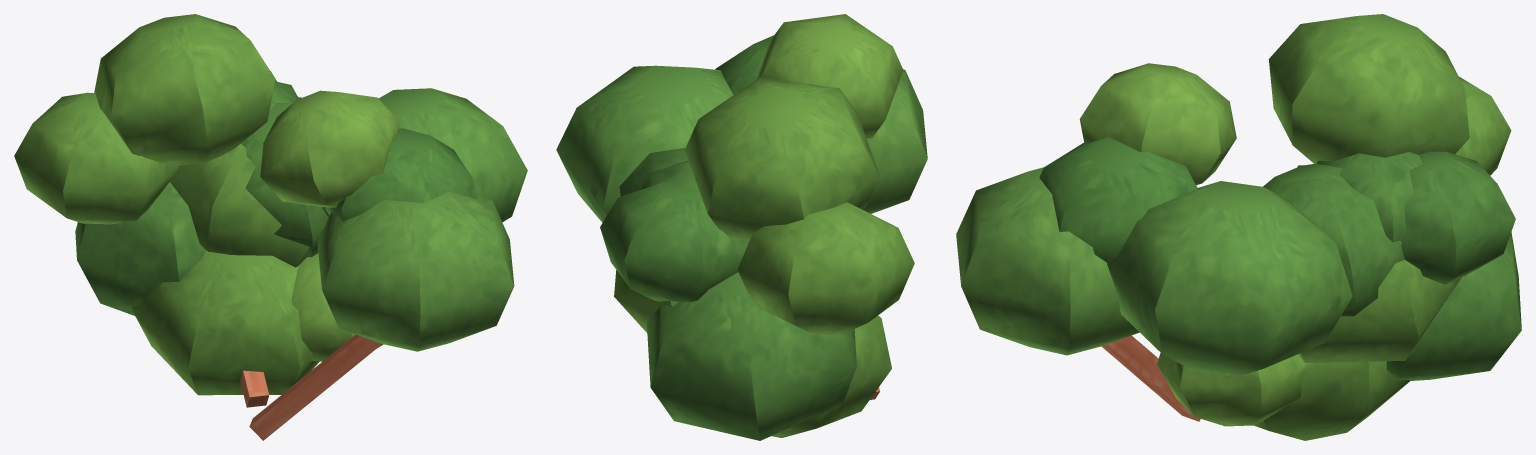
The model's file is tree_s00.fbx.
3 renders of one model, left to right at view 1: azimuth 30°, elevation 25°; view 2: azimuth 150°, elevation 25°; view 3: azimuth 270°, elevation 25°, orthographic. The views are drawn at different scales.
Parts seen in each view (by area): view 1: tree_s00; view 2: tree_s00; view 3: tree_s00.
Boxes of the visible parts, x1,y1,x2,y2 form: tree_s00: (14, 14, 527, 440); tree_s00: (556, 14, 927, 440); tree_s00: (956, 14, 1521, 440).
Size of the model in its own units: 5.76 by 5.04 by 6.53.
